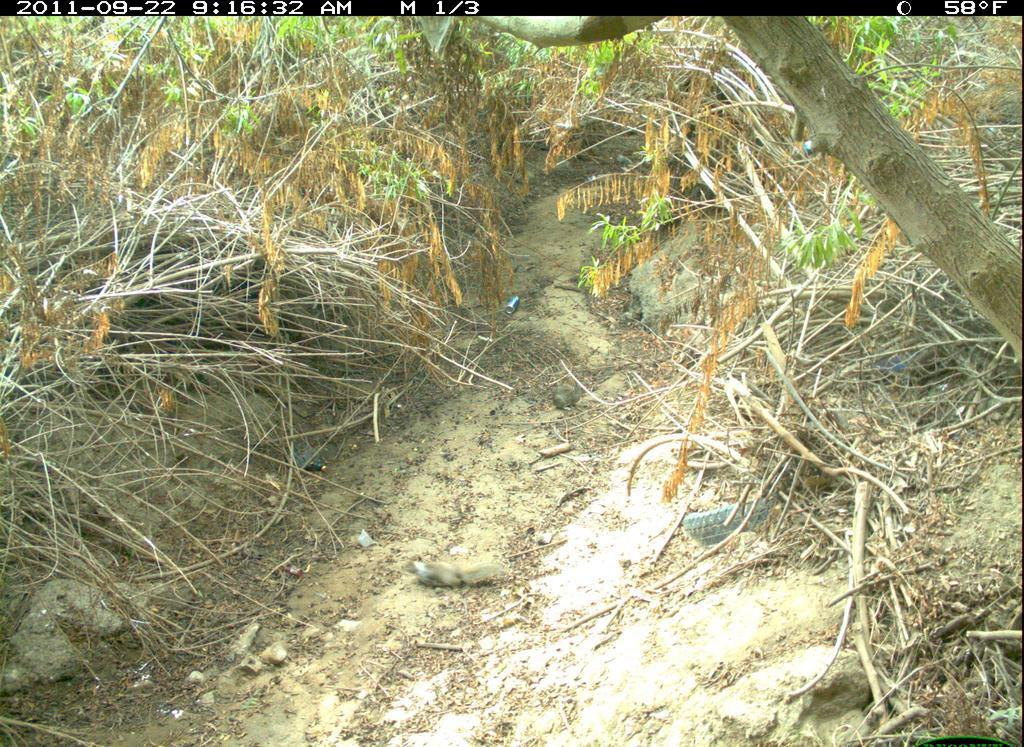squirrel: (408, 552, 529, 594)
